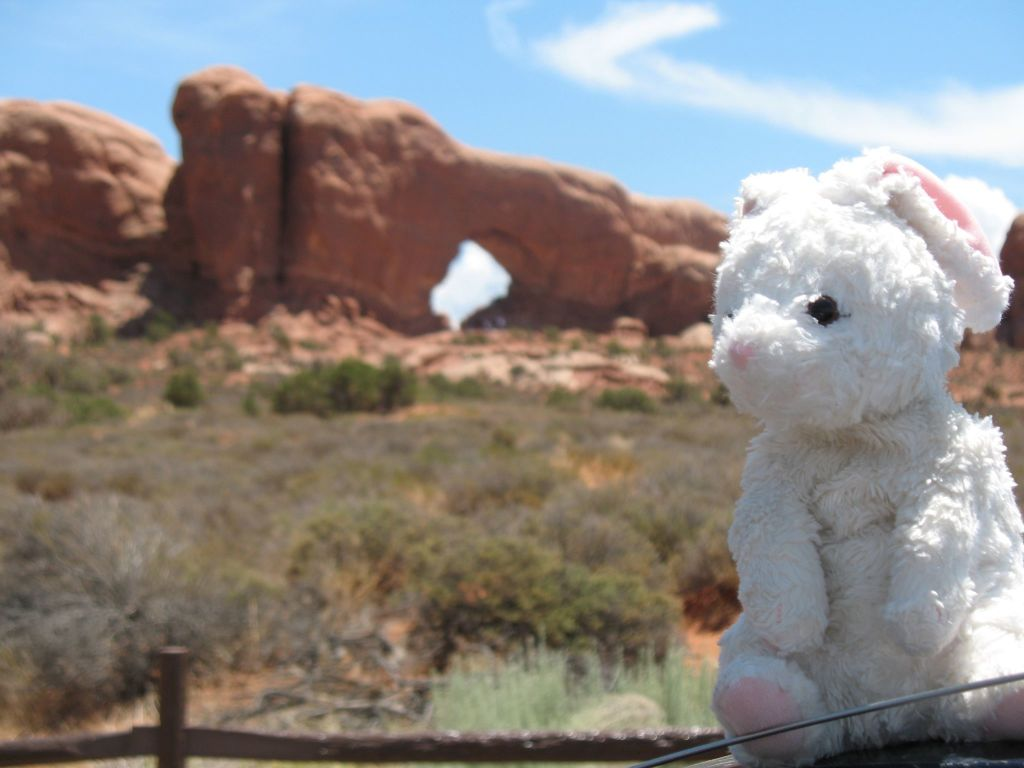Animal: (711, 145, 1022, 766)
